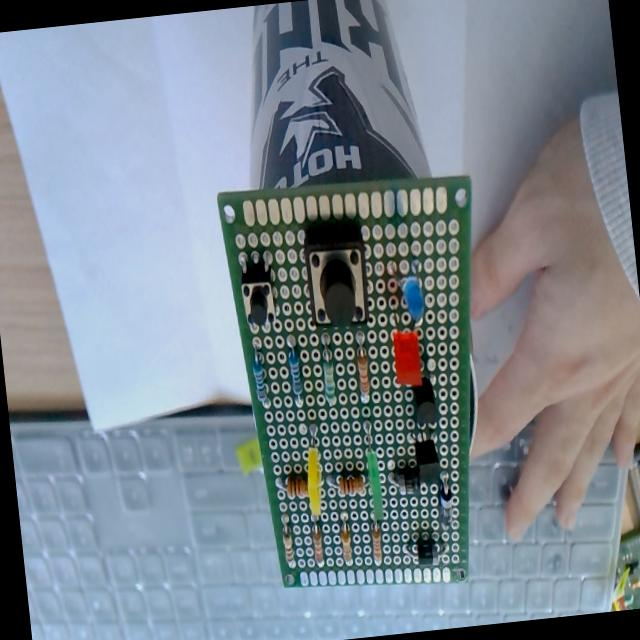diode: (408, 535, 448, 570), (436, 476, 456, 530), (388, 466, 420, 496)
led: (390, 258, 426, 324), (361, 420, 384, 522), (302, 422, 326, 516), (389, 326, 424, 389)
resistor: (318, 330, 338, 405), (352, 332, 372, 401), (286, 343, 304, 408), (250, 352, 270, 408), (334, 472, 366, 498), (280, 515, 295, 567), (339, 523, 354, 564), (369, 524, 384, 564), (286, 474, 310, 499), (312, 523, 324, 565)
switch: (302, 224, 372, 332), (238, 254, 278, 330)
transistor: (414, 436, 442, 487), (412, 374, 438, 426)
